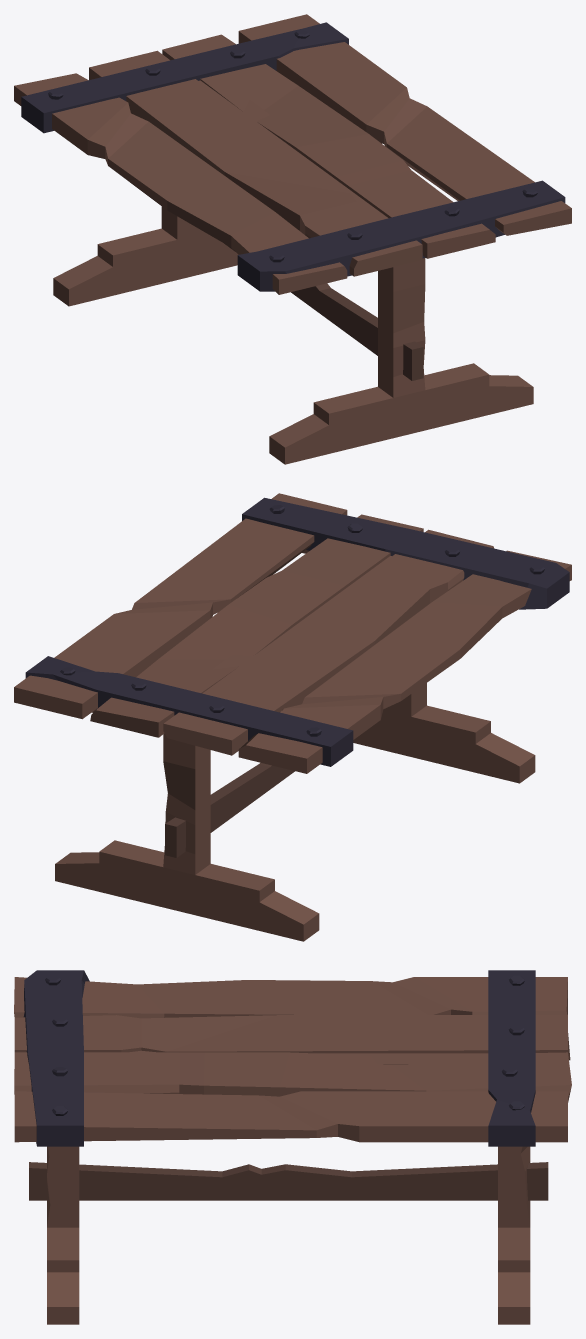
The model's file is Table_Small.glb.
The picture shows the model from 3 angles, top to bottom: view 1: azimuth 30°, elevation 25°; view 2: azimuth 150°, elevation 25°; view 3: azimuth 270°, elevation 25°; orthographic projection. The views are drawn at different scales.
Parts seen in each view (by area): view 1: Table_Small; view 2: Table_Small; view 3: Table_Small.
Boxes of the visible parts, left/top/right/bottom form: Table_Small: left=14, top=14, right=571, bottom=464; Table_Small: left=14, top=493, right=571, bottom=941; Table_Small: left=14, top=970, right=571, bottom=1324.
Bounding box in the file's own units: 0.3915 × 0.2562 × 0.5938.
